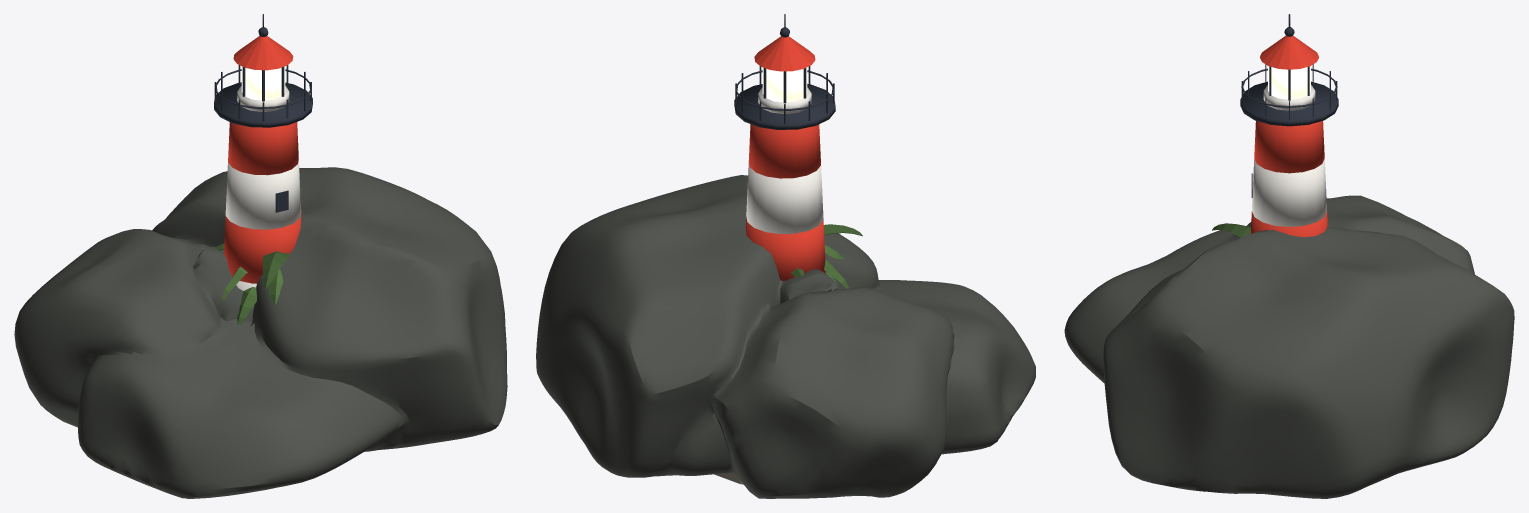
Rendered from beach.glb.
3 renders of one model, left to right at view 1: azimuth 30°, elevation 25°; view 2: azimuth 150°, elevation 25°; view 3: azimuth 270°, elevation 25°, orthographic. The views are drawn at different scales.
Parts seen in each view (by area): view 1: cliff_a, lighthouse_a, palm_b; view 2: cliff_a, lighthouse_a, palm_b; view 3: cliff_a, lighthouse_a.
Part boxes in pixels (x1=…): cliff_a: x1=14, y1=167, x2=507, y2=498; lighthouse_a: x1=214, y1=14, x2=312, y2=290; palm_b: x1=215, y1=243, x2=290, y2=324; cliff_a: x1=536, y1=175, x2=1035, y2=498; lighthouse_a: x1=714, y1=14, x2=835, y2=484; palm_b: x1=791, y1=224, x2=862, y2=288; cliff_a: x1=1064, y1=195, x2=1514, y2=498; lighthouse_a: x1=1240, y1=14, x2=1338, y2=237.
Size of the model in its own units: 22.77 by 22.7 by 21.9.
Materials: 23 (5 with a texture image).
